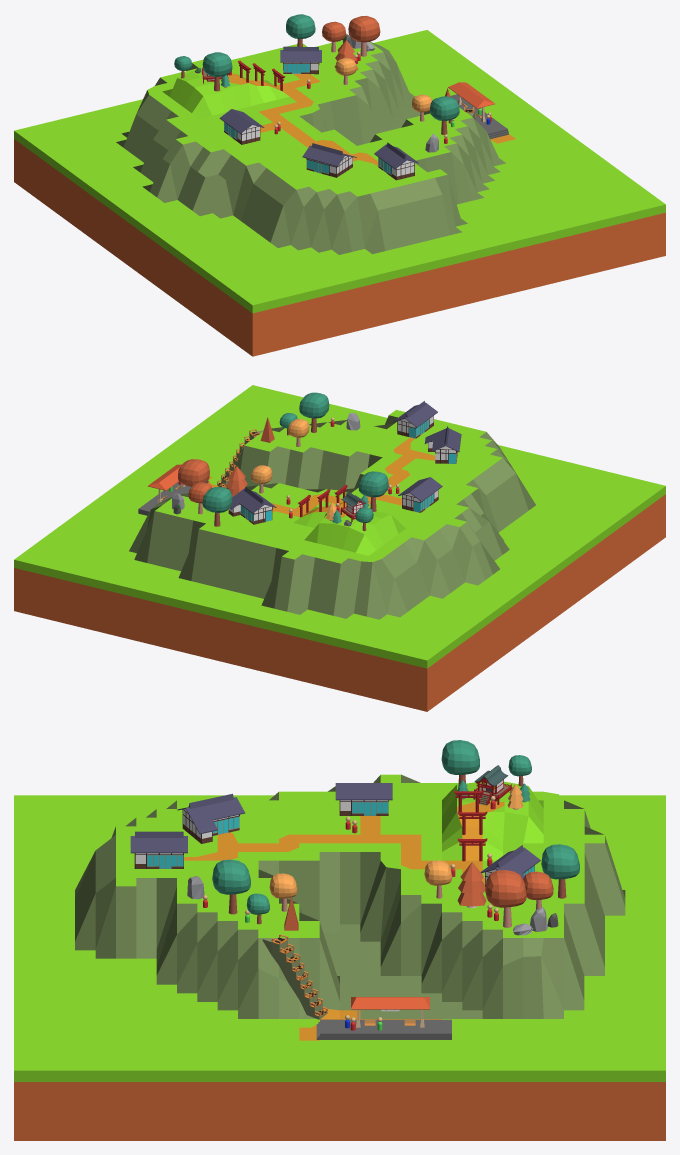
The model's file is terrain.fbx.
The picture shows the model from 3 angles, top to bottom: view 1: azimuth 30°, elevation 25°; view 2: azimuth 150°, elevation 25°; view 3: azimuth 270°, elevation 25°; orthographic projection. The views are drawn at different scales.
Parts seen in each view (by area): view 1: Terrain, Base, Haus_2, Haus_2.001, Haus_1, Haus_3, Tree_3_3, Tree_3_1, Tree_3_1.004, Tree_3_1.002, Platform, Roof; view 2: Terrain, Base, Haus_2.001, Haus_1, Haus_3, Haus_2, Tree_3_1, Tree_3_1.004, Tree_3_1.002, Tree_3_3, Platform; view 3: Terrain, Base, Platform, Haus_2, Haus_1, Stairs, Haus_3, Tree_3_3, Tree_3_1.004, Tree_3_1.002, Tree_3_1, Roof (+6 smaller).
Boxes of the visible parts, x1=… form: Terrain: x1=14, y1=30, x2=665, y2=313; Base: x1=14, y1=139, x2=665, y2=356; Haus_2: x1=302, y1=143, x2=356, y2=177; Haus_2.001: x1=280, y1=46, x2=321, y2=74; Haus_1: x1=374, y1=142, x2=418, y2=180; Haus_3: x1=219, y1=109, x2=264, y2=144; Tree_3_3: x1=348, y1=15, x2=380, y2=56; Tree_3_1: x1=202, y1=52, x2=232, y2=91; Tree_3_1.004: x1=430, y1=96, x2=459, y2=134; Tree_3_1.002: x1=286, y1=14, x2=315, y2=46; Platform: x1=450, y1=94, x2=508, y2=139; Roof: x1=448, y1=82, x2=494, y2=108; Terrain: x1=14, y1=385, x2=665, y2=668; Base: x1=14, y1=494, x2=665, y2=711; Haus_2.001: x1=228, y1=487, x2=276, y2=524; Haus_1: x1=393, y1=401, x2=437, y2=438; Haus_3: x1=398, y1=477, x2=442, y2=512; Haus_2: x1=424, y1=426, x2=461, y2=463; Tree_3_1: x1=358, y1=471, x2=388, y2=511; Tree_3_1.004: x1=299, y1=392, x2=329, y2=432; Tree_3_1.002: x1=202, y1=487, x2=232, y2=526; Tree_3_3: x1=178, y1=459, x2=209, y2=501; Platform: x1=138, y1=480, x2=208, y2=515; Terrain: x1=14, y1=774, x2=665, y2=1081; Base: x1=14, y1=1082, x2=665, y2=1140; Platform: x1=316, y1=1019, x2=451, y2=1039; Haus_2: x1=177, y1=793, x2=245, y2=843; Haus_1: x1=130, y1=831, x2=187, y2=868; Stairs: x1=262, y1=934, x2=327, y2=1019; Haus_3: x1=335, y1=783, x2=392, y2=815; Tree_3_3: x1=485, y1=870, x2=526, y2=927; Tree_3_1.004: x1=212, y1=859, x2=250, y2=914; Tree_3_1.002: x1=541, y1=844, x2=579, y2=898; Tree_3_1: x1=441, y1=740, x2=479, y2=787; Roof: x1=351, y1=997, x2=429, y2=1009.
Bounding box in the file's own units: 1000 × 352 × 1000.
